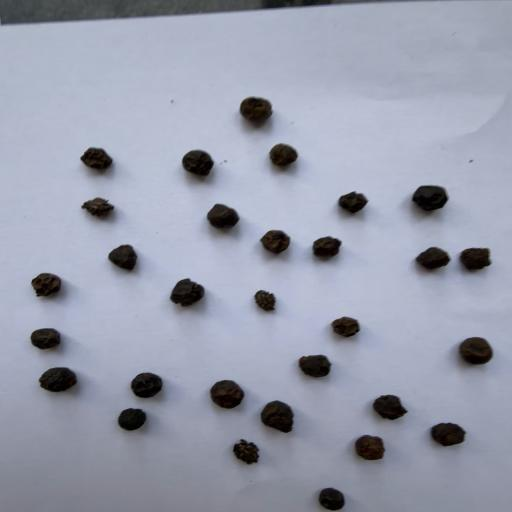Black_pepper: (169, 142, 234, 190), (163, 272, 220, 323), (307, 224, 358, 278), (10, 316, 76, 356), (104, 404, 174, 441), (408, 177, 462, 222), (12, 262, 71, 303), (234, 87, 285, 134), (451, 326, 505, 370), (367, 385, 422, 428), (252, 392, 307, 434), (32, 363, 93, 400), (98, 235, 152, 276), (456, 241, 506, 280), (208, 370, 251, 414), (414, 237, 457, 281), (292, 345, 345, 380), (430, 419, 478, 457), (307, 479, 362, 512), (70, 138, 121, 173), (192, 199, 244, 233), (328, 180, 376, 216), (262, 139, 312, 172), (356, 431, 398, 468), (323, 308, 368, 339), (255, 224, 296, 258), (130, 367, 168, 401)
papaya_seed: (244, 273, 284, 321), (228, 437, 268, 466), (76, 191, 120, 217)
